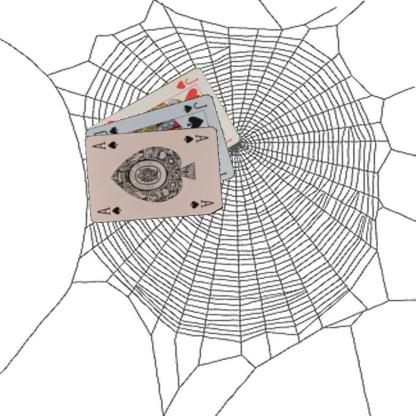As: (181, 132, 210, 144), (94, 204, 123, 216)
Jh: (173, 75, 200, 90)
Js: (180, 99, 209, 114)
